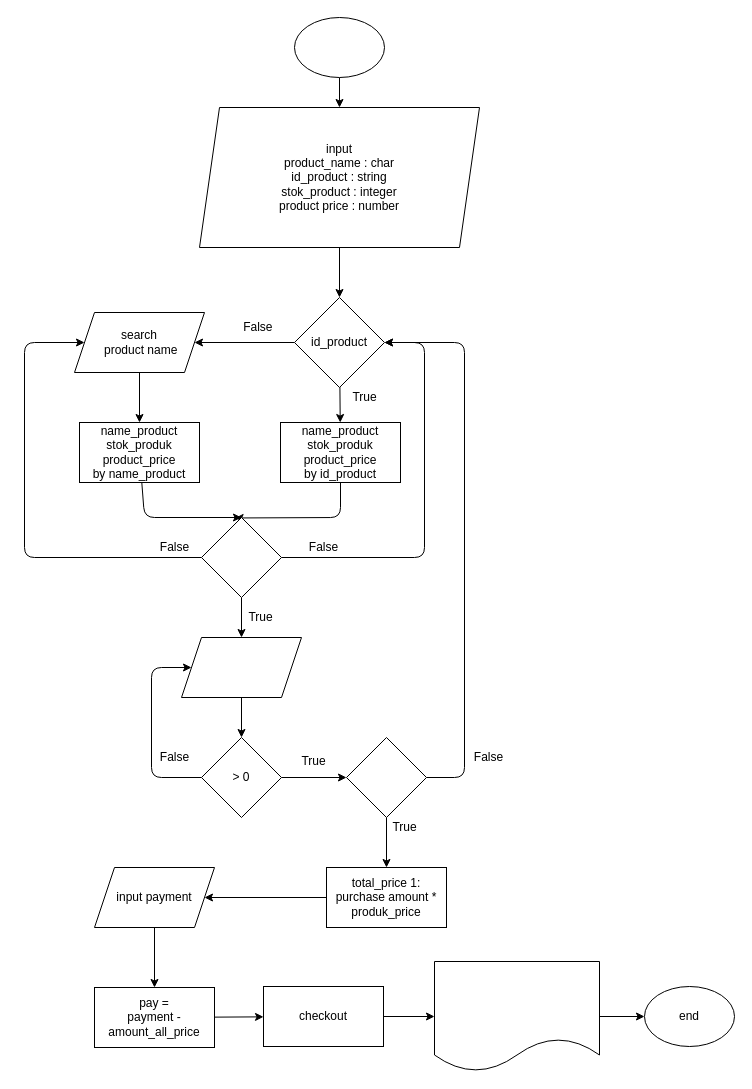
Some shapes in this 752 by 1089 pixel diagram are drawn without their labels. The centre of each missing label's shape, as x and y in pixels:
add to cart?: pixel 386 777
output : name_product purchase_amount total_price amount_all_price: pixel 517 1016
purchase amount: pixel 241 667
start: pixel 339 47
stok ready?: pixel 241 557
